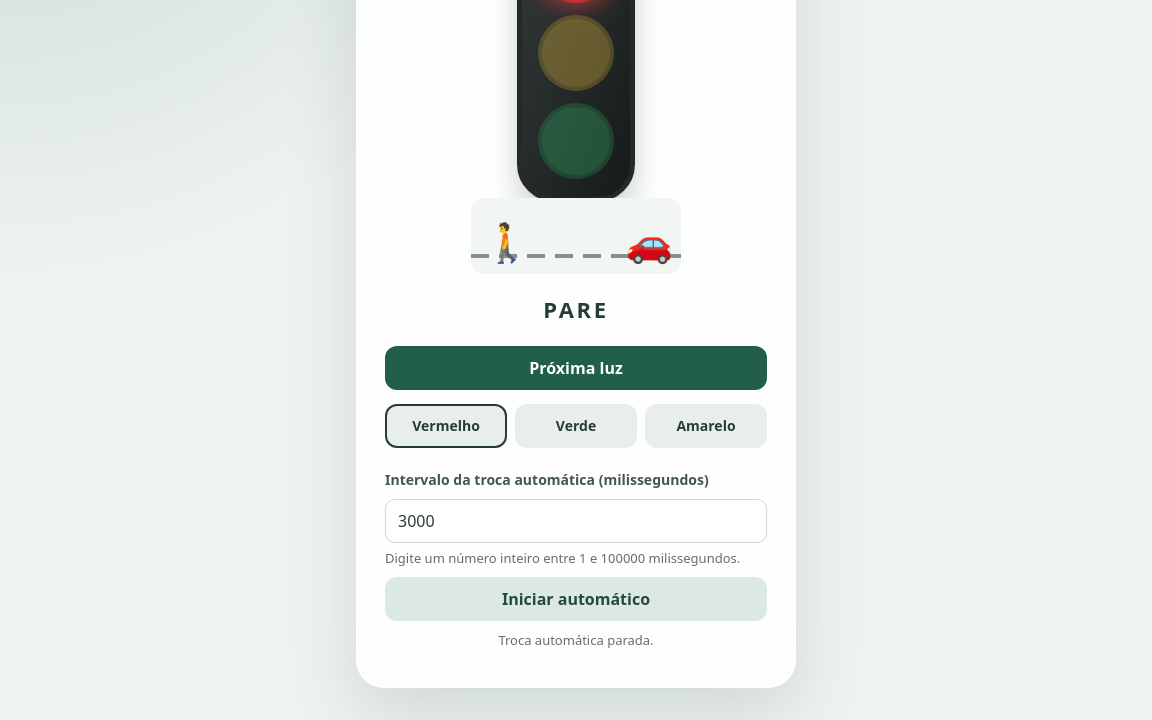
Test: selects a color directly and exposes the selected state
The width and height of the screenshot is (1152, 720).
(page scrolled)
Click the button "Amarelo".
click(706, 426)  # box top-left (645, 404), bottom-right (767, 448)
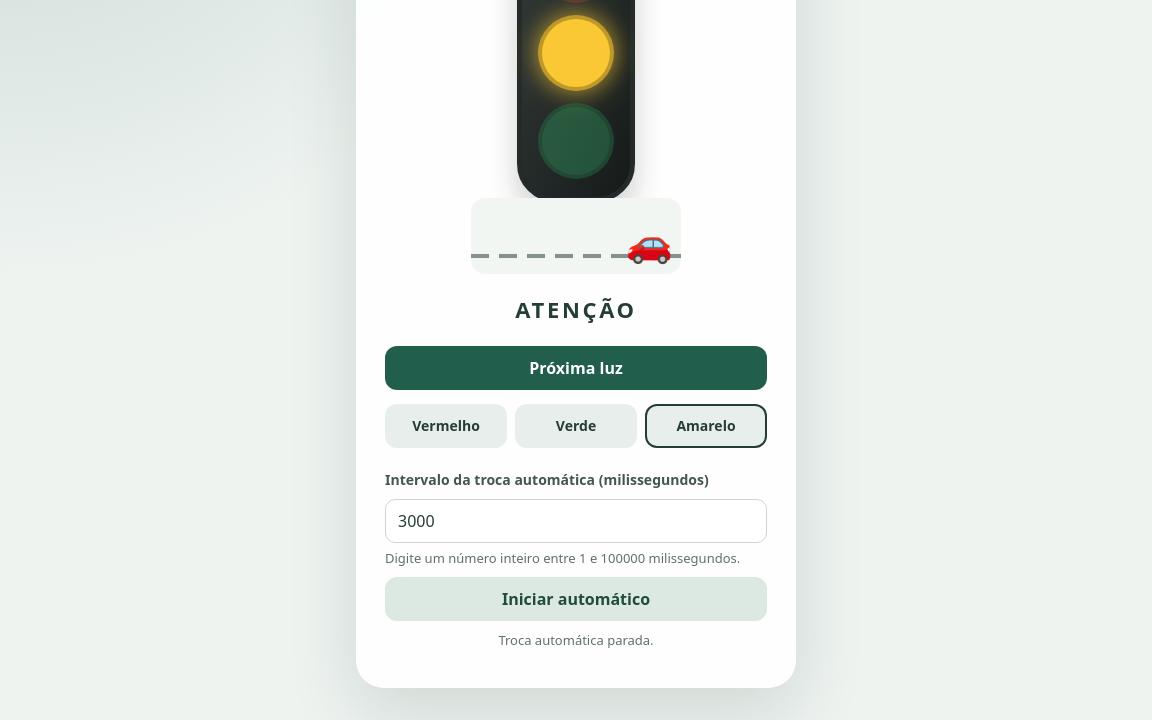
Expected: the picture named "Carro parado." is shown, top-left (471, 198), bottom-right (681, 274)
Result: the message reads "ATENÇÃO" at top-left (515, 294), bottom-right (637, 324)
Click the button "Verde".
click(576, 426)  # box top-left (515, 404), bottom-right (637, 448)
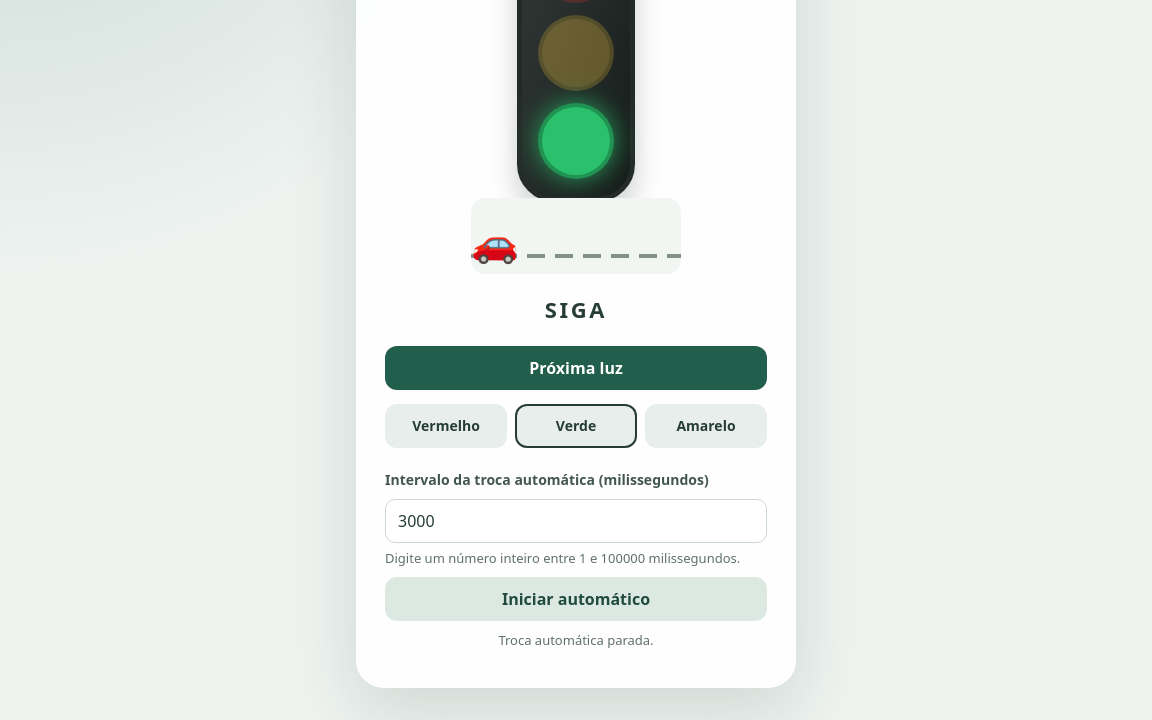
Result: the picture named "Carro passando." is shown at top-left (471, 198), bottom-right (681, 274)
